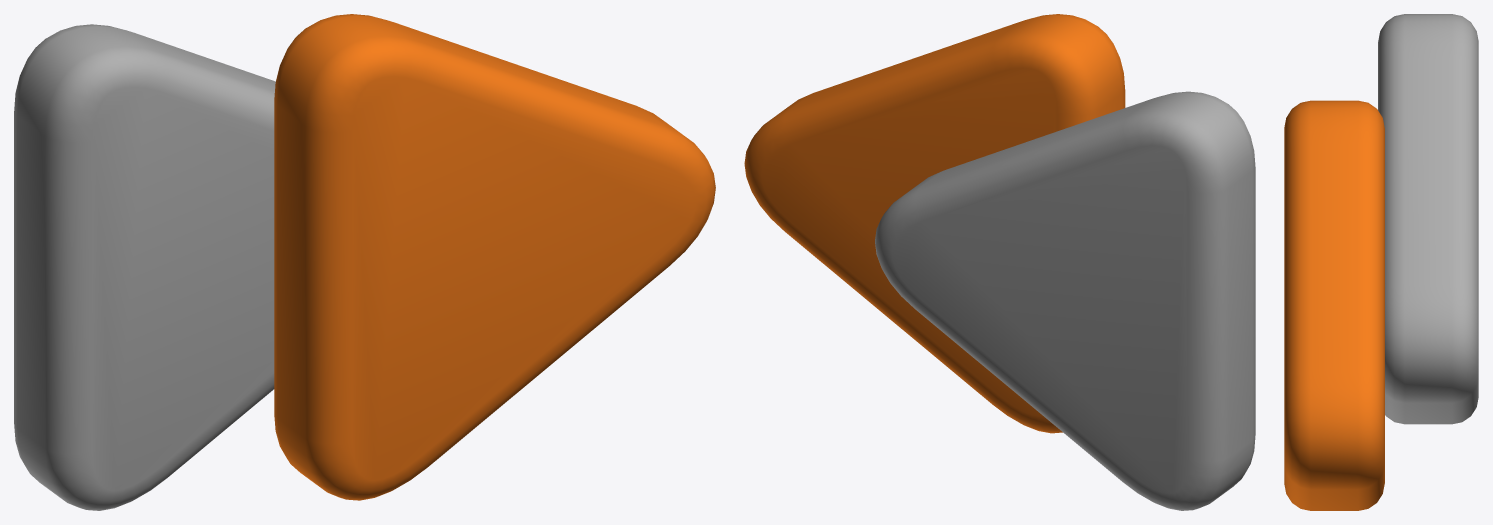
The model's file is fast-forward-animated-3d-icon-1374804854024.glb.
3 renders of one model, left to right at view 1: azimuth 30°, elevation 25°; view 2: azimuth 150°, elevation 25°; view 3: azimuth 270°, elevation 25°, orthographic. The views are drawn at different scales.
Visible parts, largest first — view 1: Forward 2, Forward 1; view 2: Forward 1, Forward 2; view 3: Forward 2, Forward 1.
Part boxes in pixels (x1,y1,x2,y2): Forward 2: (274, 14, 715, 500); Forward 1: (14, 24, 275, 510); Forward 1: (875, 91, 1255, 510); Forward 2: (744, 14, 1125, 433); Forward 2: (1284, 100, 1384, 510); Forward 1: (1378, 14, 1478, 424).
Bounding box in the file's own units: 1.06 × 0.7564 × 0.3375.
